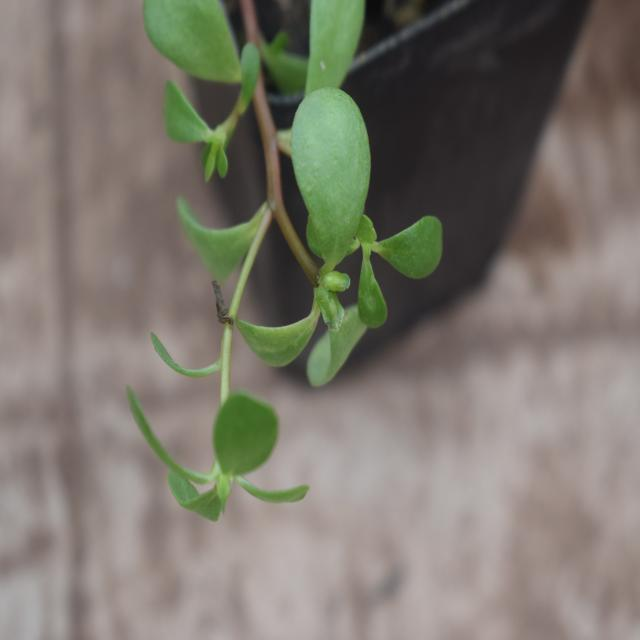purslane: (124, 52, 446, 528)
